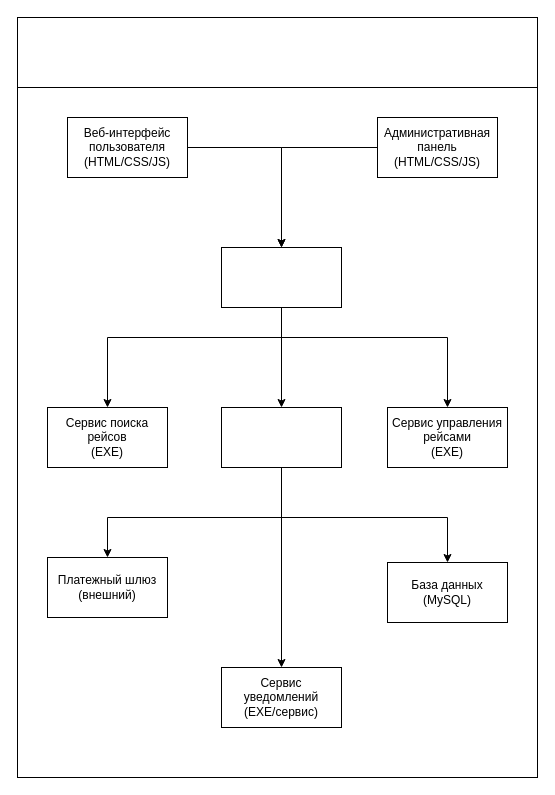
Some shapes in this 555 by 795 pixel diagram are drawn without their labels. Each missing label, with the centre of its shape:
API шлюз (EXE/сервис): the point at 281,277
Сервис бронирования и покупки (EXE): the point at 281,437
СЕРВИС ПРОДАЖИ АВИАБИЛЕТОВ: the point at 277,52
